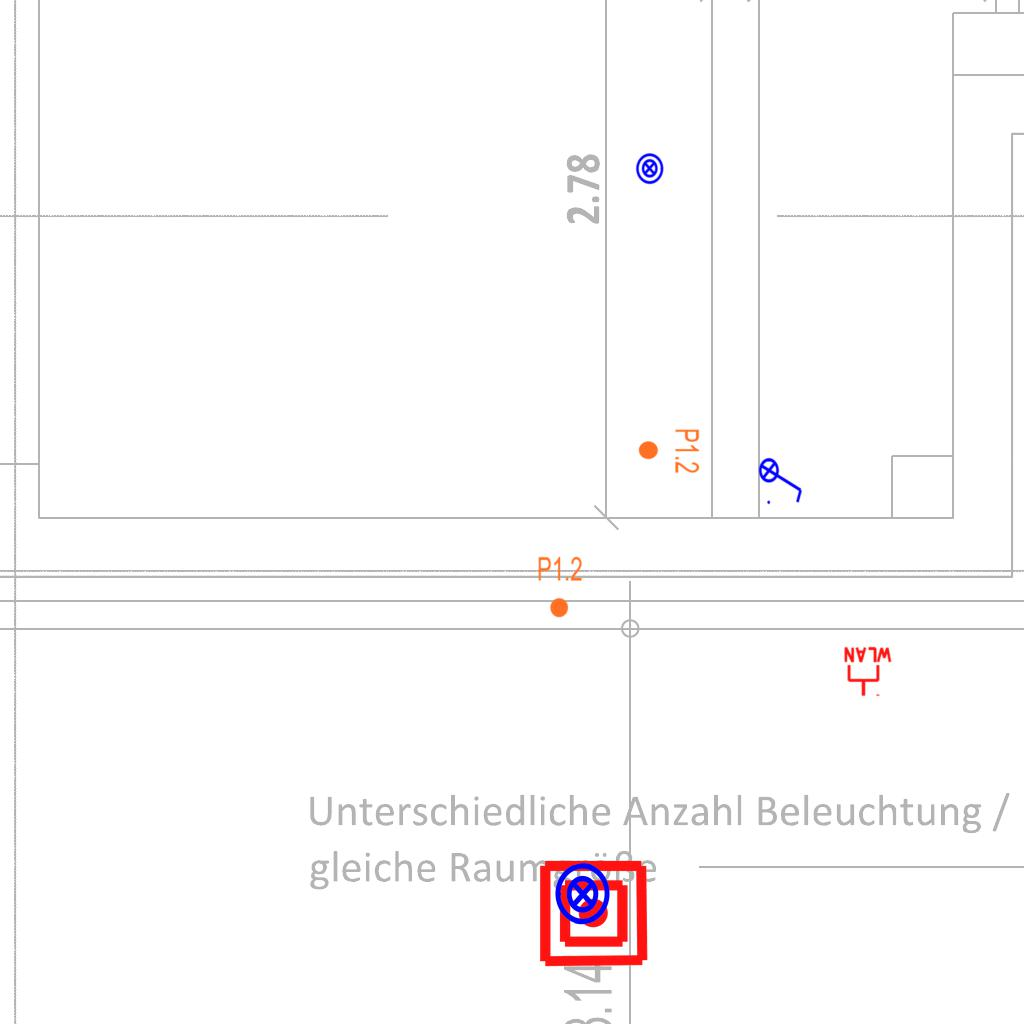Ausschalter_beleuchtet: (758, 451, 806, 507)
Downlight_LED_Einbauleuchten_Flur: (637, 428, 701, 474), (537, 555, 583, 619)
NAM-Nichtautomatischer_Melder: (537, 857, 650, 970)
Taster_beleuchtet: (549, 860, 617, 928), (633, 152, 666, 185)
WLAN: (842, 646, 894, 698)
